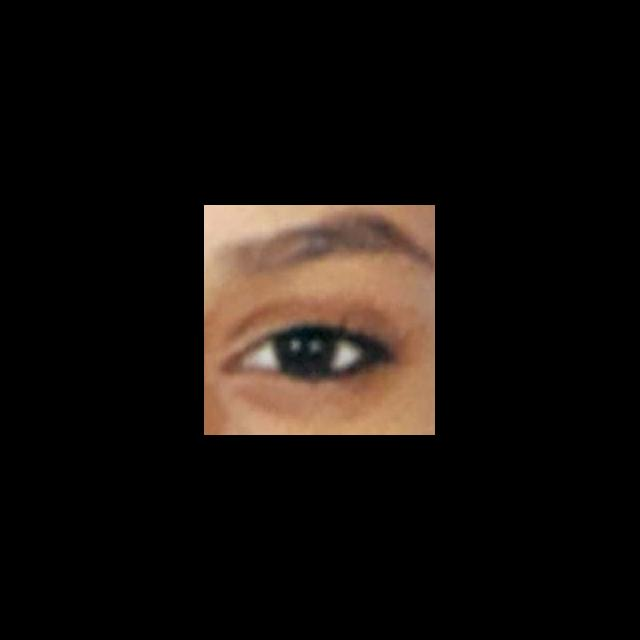eye: (241, 333, 373, 375)
iris: (275, 335, 334, 374)
